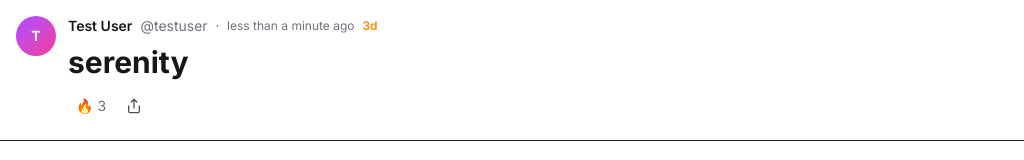
Test case: WordPost › shows reaction picker when reaction button is clicked
Click the button "🔥3" at (91, 106), box x1=68 y1=92 x2=114 y2=120
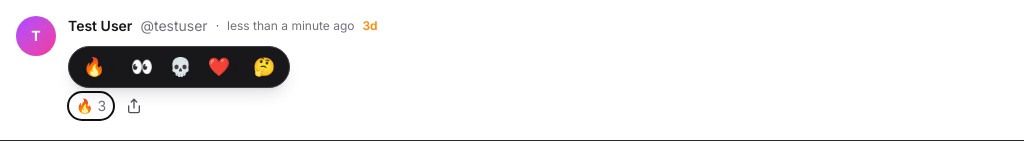
Now the button "👀" is shown, box x1=125 y1=51 x2=159 y2=83
Now the button "💀" is shown, box x1=163 y1=51 x2=198 y2=83
Now the button "🤔" is shown, box x1=247 y1=51 x2=282 y2=83
